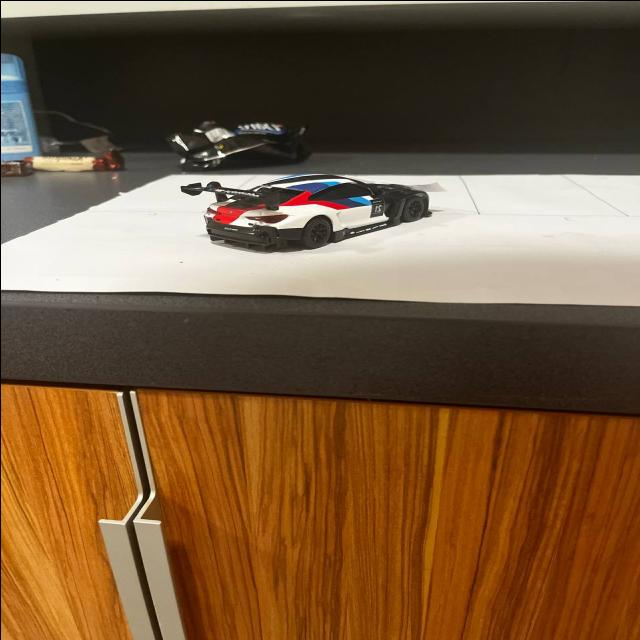cars: (164, 178, 449, 266)
